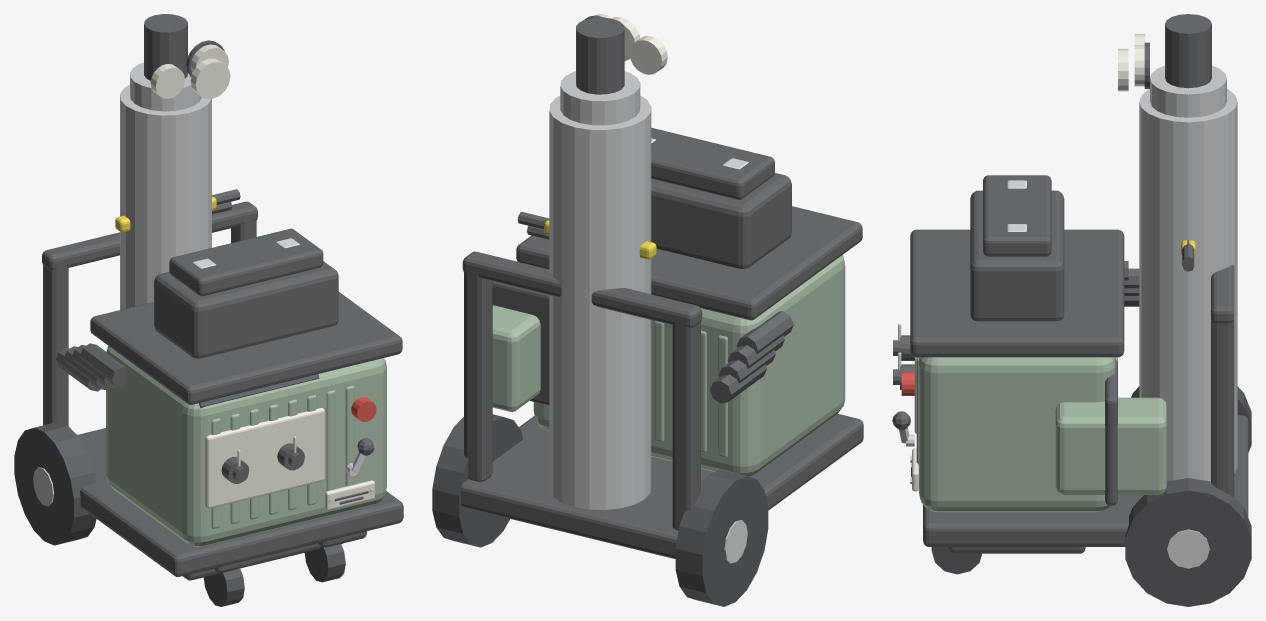
File: mig-welder-on-a-bottle-cart.glb
3 renders of one model, left to right at view 1: azimuth 30°, elevation 25°; view 2: azimuth 150°, elevation 25°; view 3: azimuth 270°, elevation 25°, orthographic. The views are drawn at different scales.
Visible parts, largest first — view 1: machine-shop-and-factory-hall-mig-welder-cart; view 2: machine-shop-and-factory-hall-mig-welder-cart; view 3: machine-shop-and-factory-hall-mig-welder-cart.
Part boxes in pixels (x1=…): machine-shop-and-factory-hall-mig-welder-cart: x1=14, y1=14, x2=403, y2=606; machine-shop-and-factory-hall-mig-welder-cart: x1=432, y1=14, x2=863, y2=606; machine-shop-and-factory-hall-mig-welder-cart: x1=892, y1=14, x2=1251, y2=606.
Size of the model in its own units: 0.7531 by 1.34 by 0.8397.
